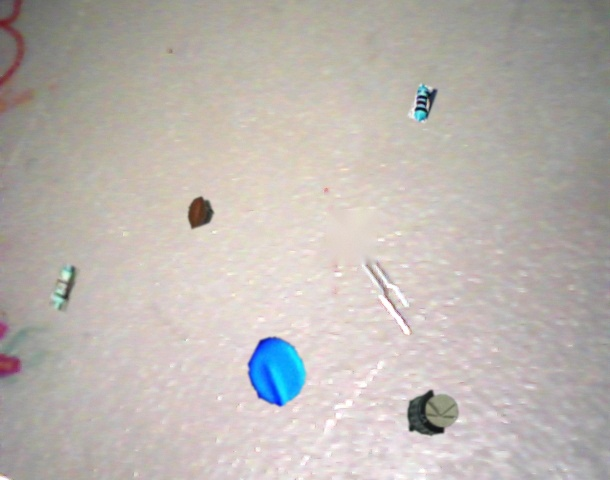capacitor: (248, 337, 307, 406), (407, 390, 458, 436), (187, 196, 214, 229)
resistor: (48, 263, 81, 312), (408, 84, 437, 123)
